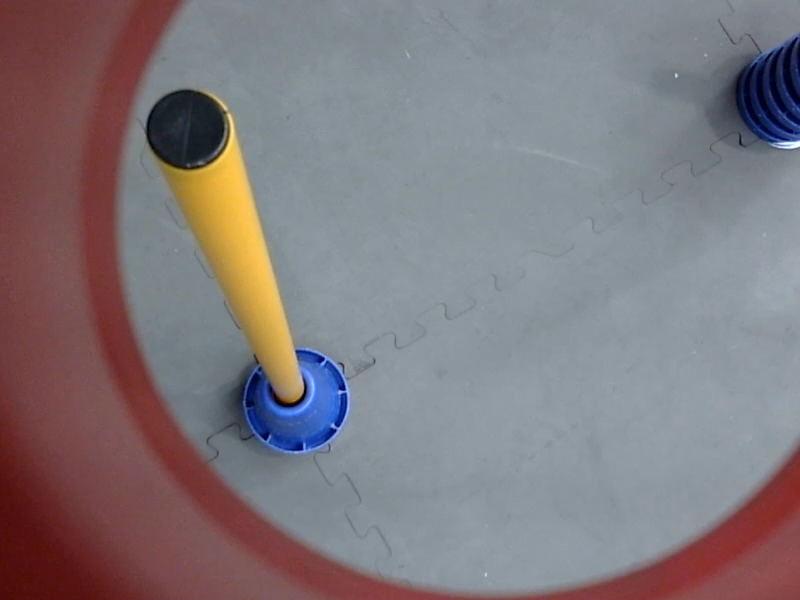tip: (143, 85, 232, 177)
